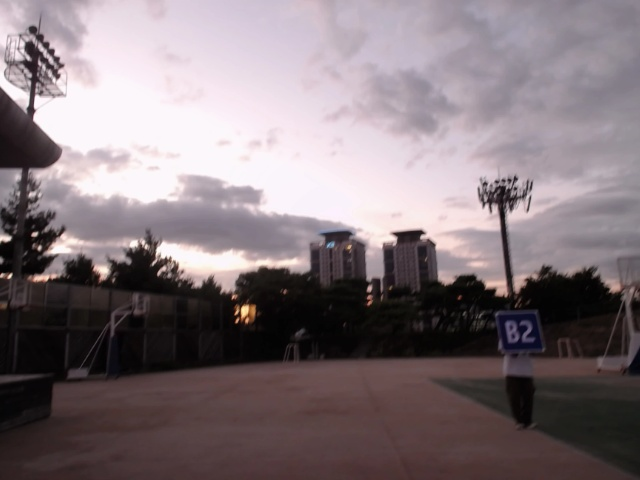delivery_b2: (494, 310, 546, 353)
